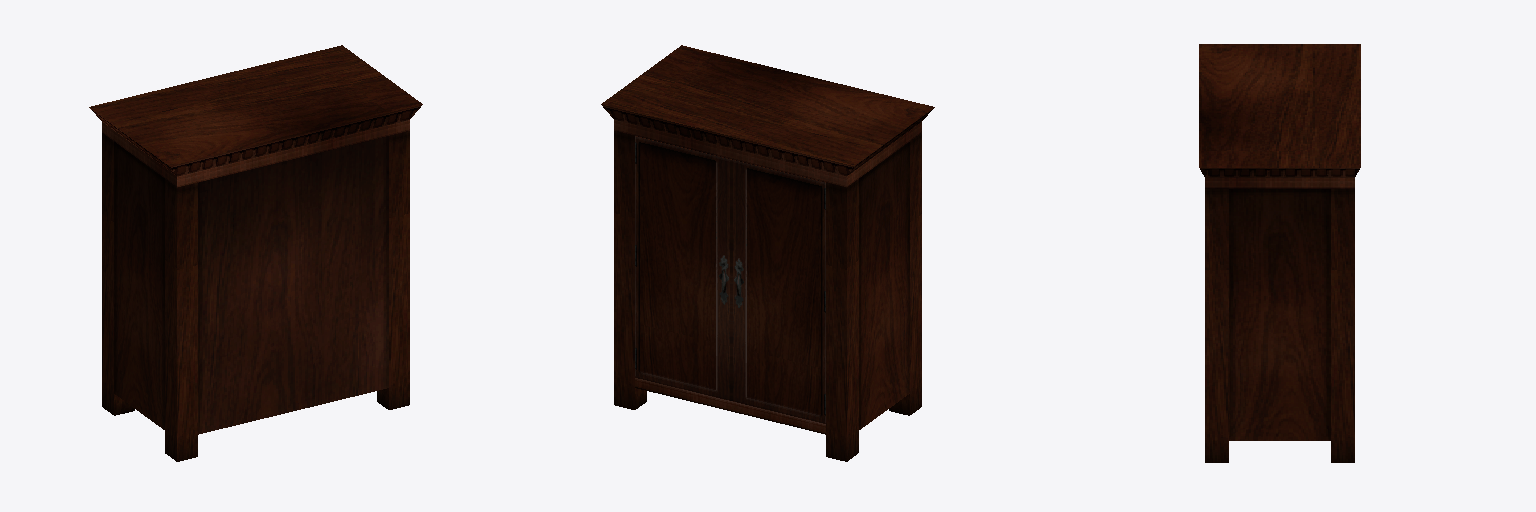
3 renders of one model, left to right at view 1: azimuth 30°, elevation 25°; view 2: azimuth 150°, elevation 25°; view 3: azimuth 270°, elevation 25°, orthographic.
Visible parts, largest first — view 1: material_0, material_1; view 2: material_0, material_1; view 3: material_0.
Boxes of the visible parts, <box> form: material_0: <box>89,45,422,461</box>; material_1: <box>198,136,388,434</box>; material_0: <box>601,45,934,461</box>; material_1: <box>635,136,825,423</box>; material_0: <box>1199,44,1360,462</box>.
Size of the model in its own units: 77.81 by 88.15 by 43.02.
2 materials, 2 textured.